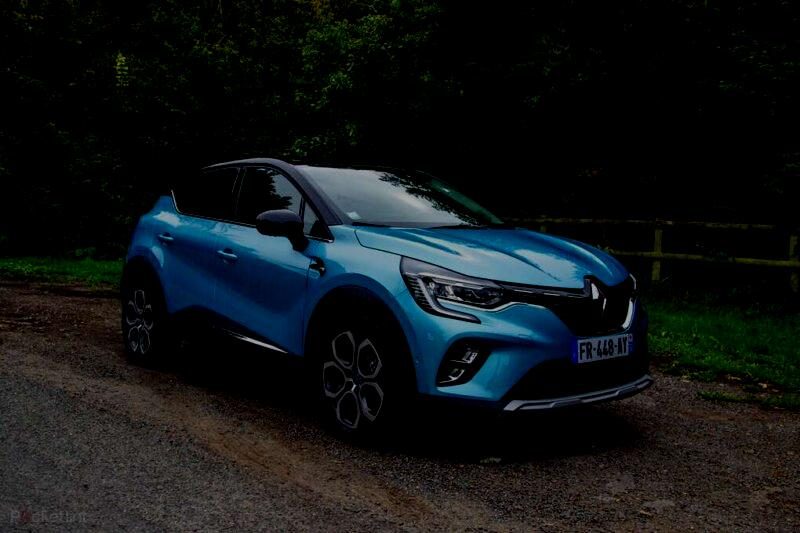Renault: (586, 275, 617, 322)
